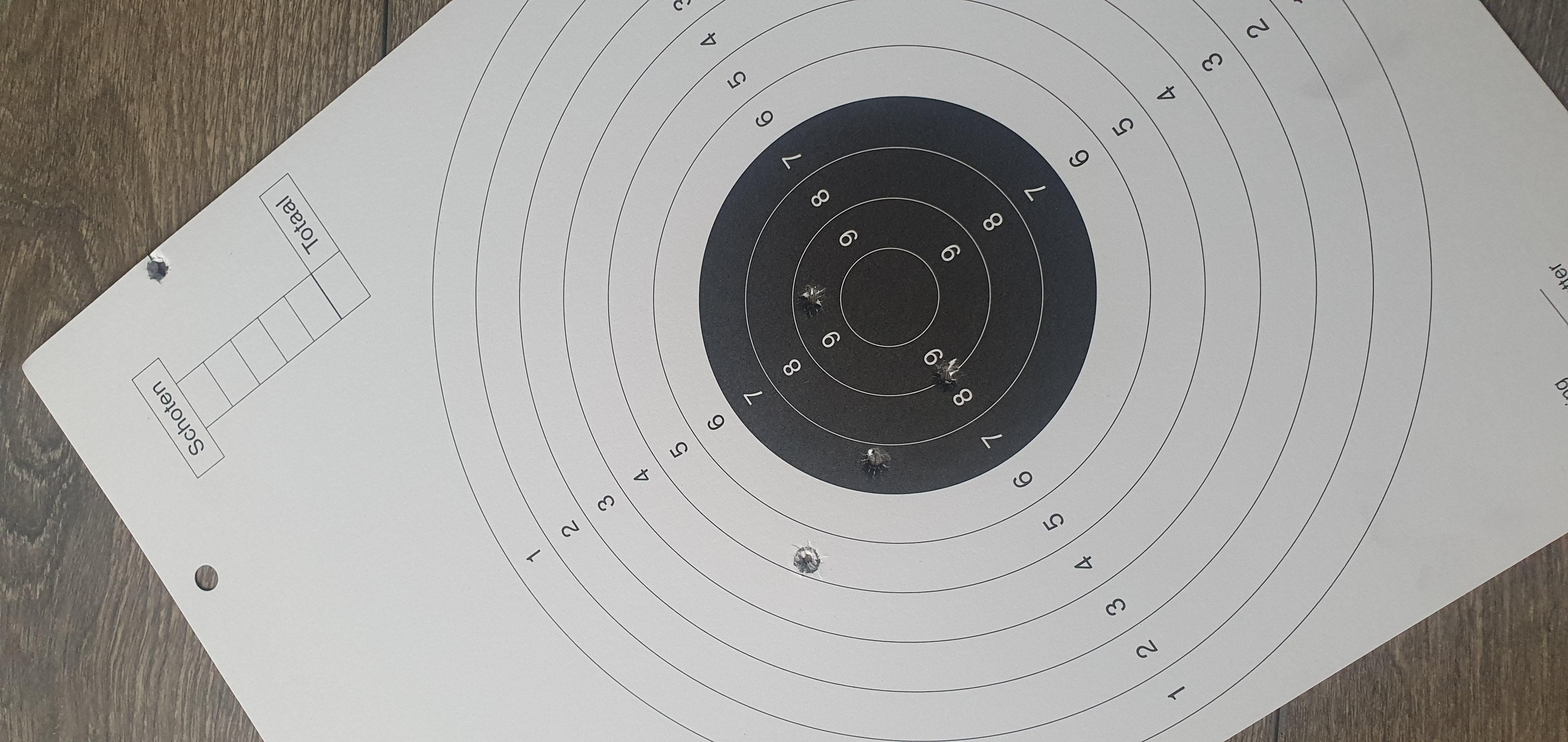hole: (547, 406, 626, 423), (735, 441, 812, 456), (347, 375, 418, 390), (894, 376, 965, 391), (972, 68, 1036, 81)
